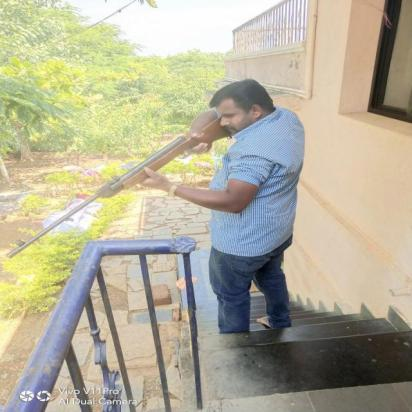Gun: (4, 115, 235, 260)
